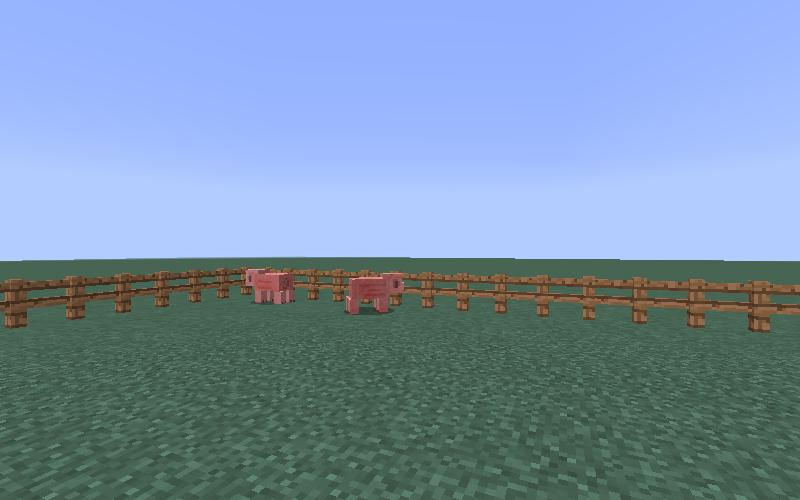pig: (344, 271, 406, 319), (241, 266, 296, 305)
